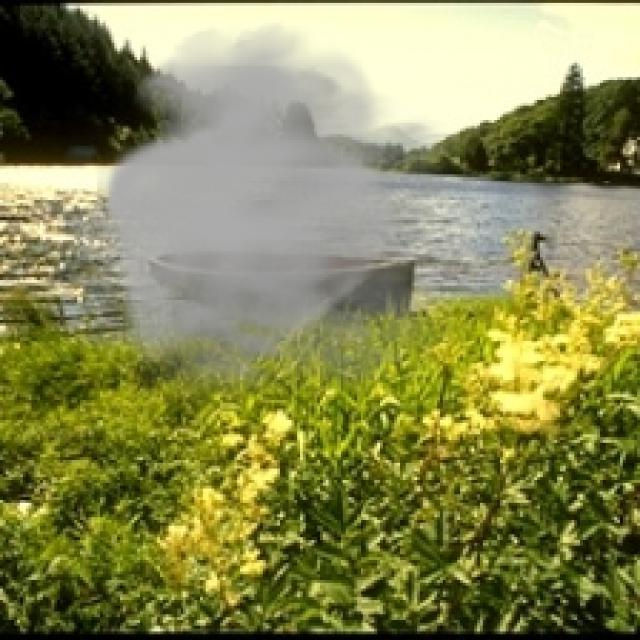Smoke: (97, 22, 497, 414)
